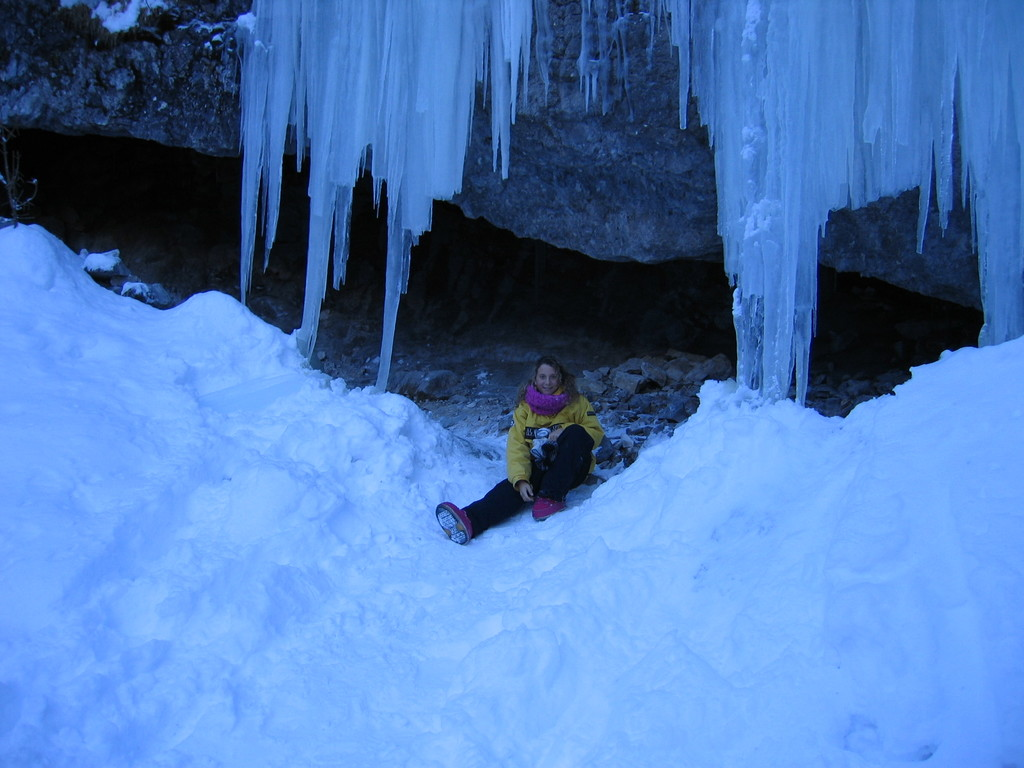Person: (435, 355, 604, 543)
